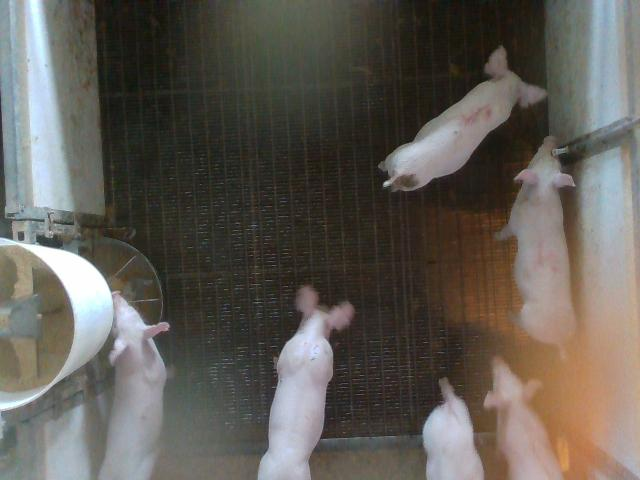pig-4: (495, 136, 576, 356)
pig-5: (379, 46, 546, 191)
